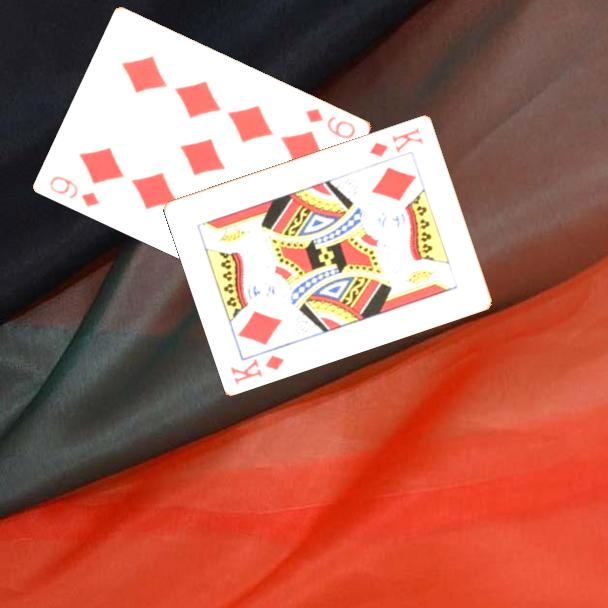d09: (46, 172, 103, 210), (302, 105, 359, 142)
d13: (366, 123, 426, 159), (227, 351, 287, 387)
